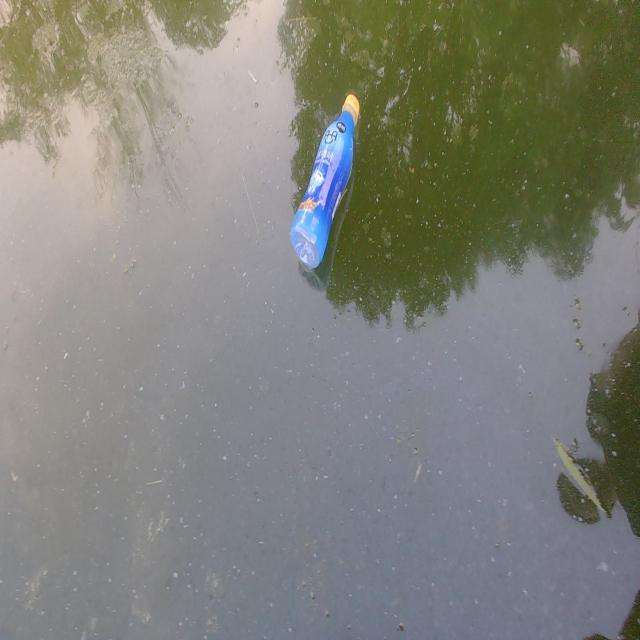garbage: (290, 91, 361, 269)
